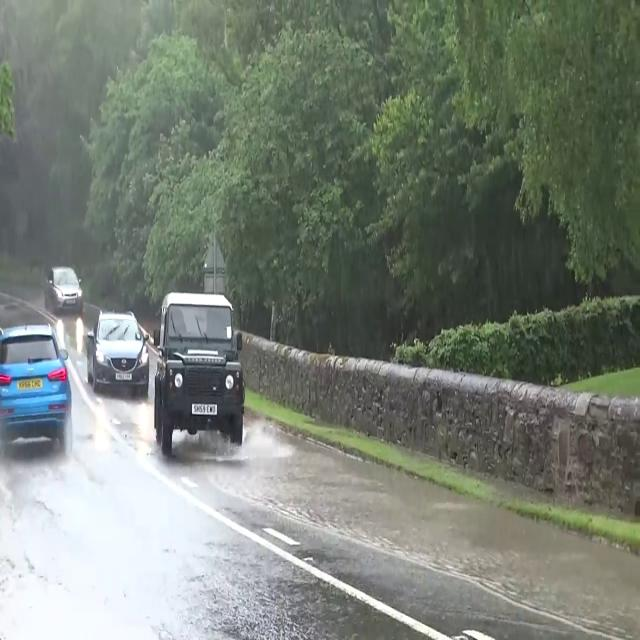license-plate-annotation: (18, 379, 44, 394)
